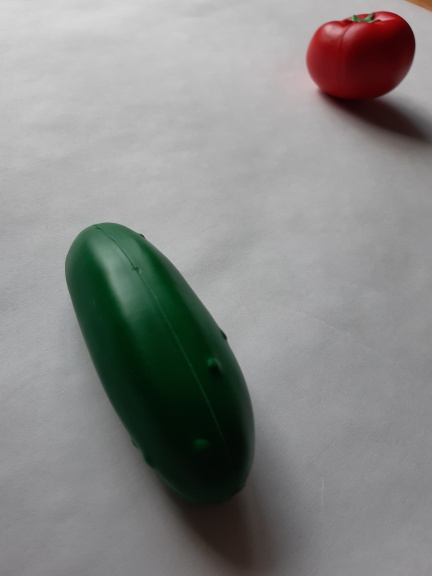cucumber: (51, 206, 266, 519)
tomato: (296, 7, 423, 109)
